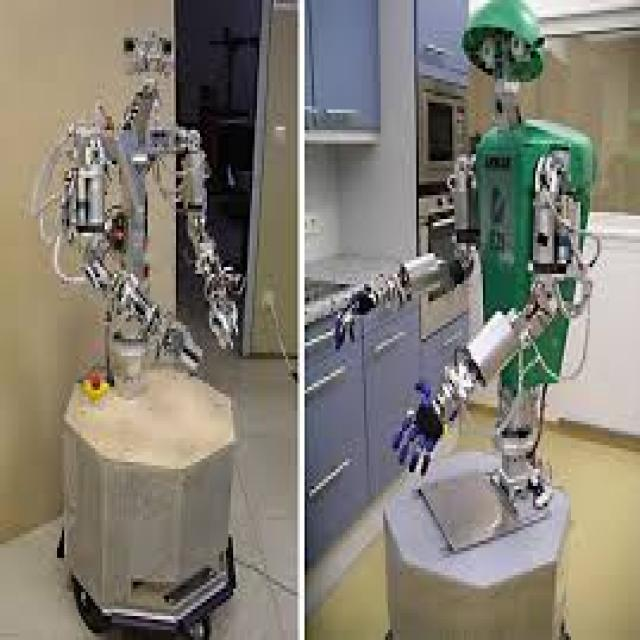humanoid-arm: (386, 322, 534, 484), (330, 240, 460, 358), (116, 285, 206, 381), (194, 228, 249, 358)
